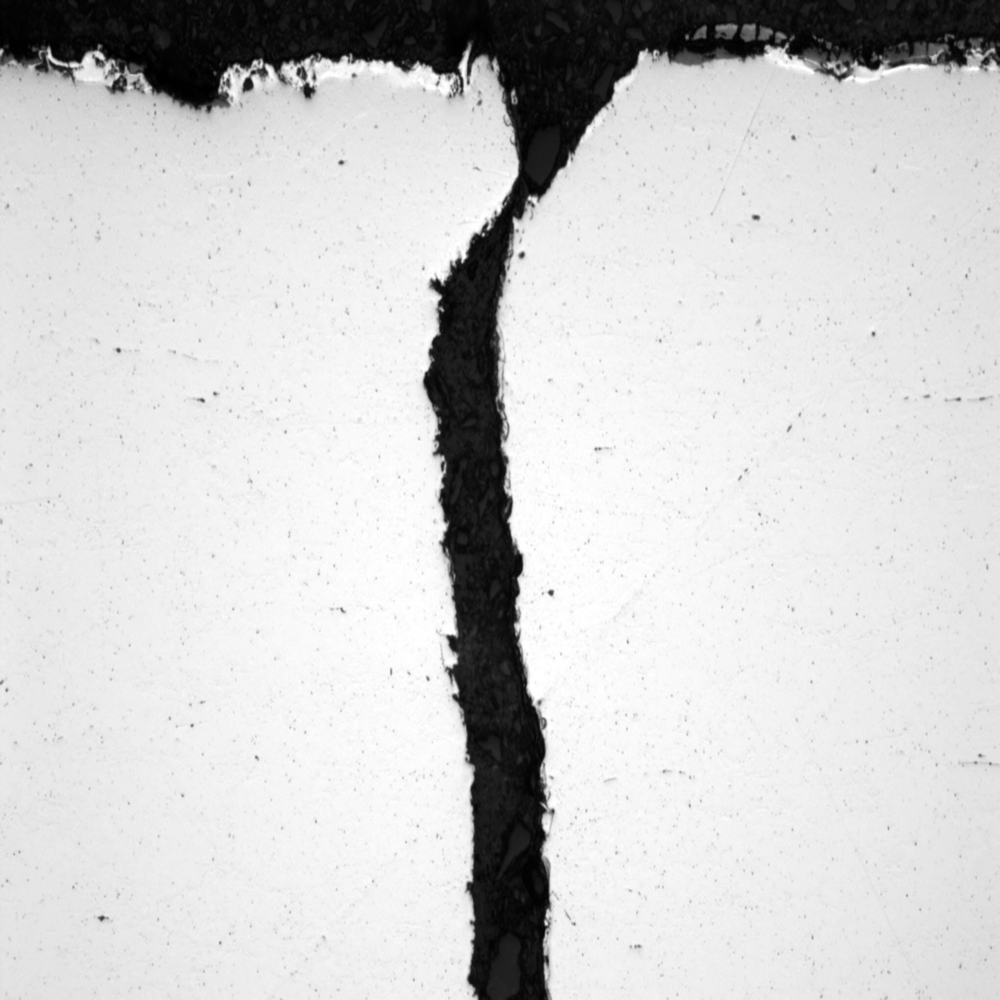crack: (403, 35, 686, 1000)
